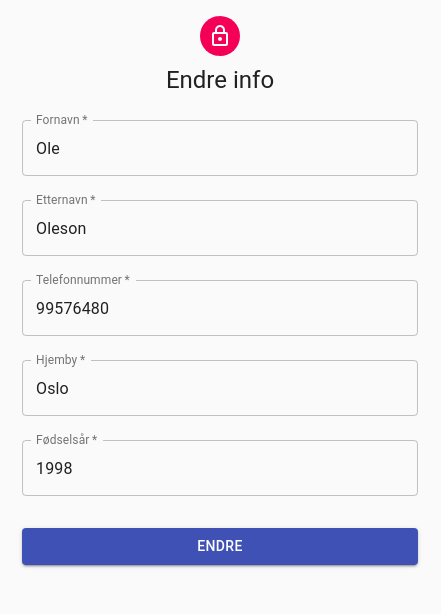
Test: EditUser component › will say to to old
Replace the text in the field with id "firstName" with "Ola": (220, 148) [22, 120, 418, 176]
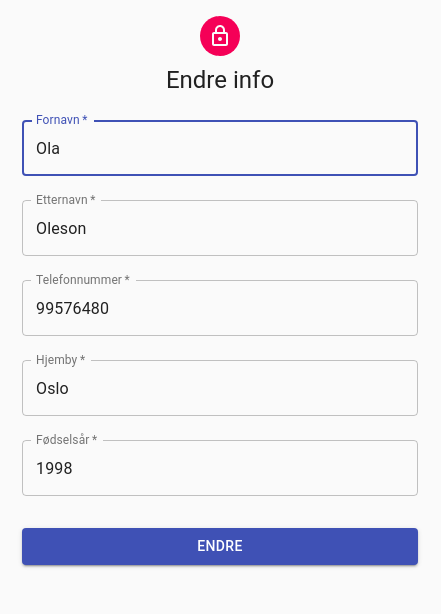
Replace the text in the field with id "lastName" with "Normann": (220, 228) [22, 200, 418, 256]
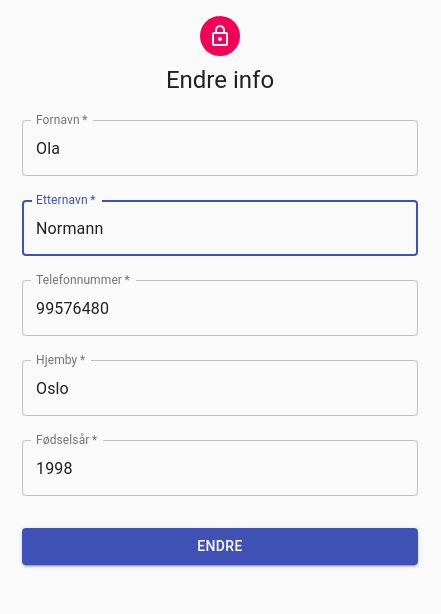
Replace the text in the field with id "tel" with "90807060": (220, 308) [22, 280, 418, 336]
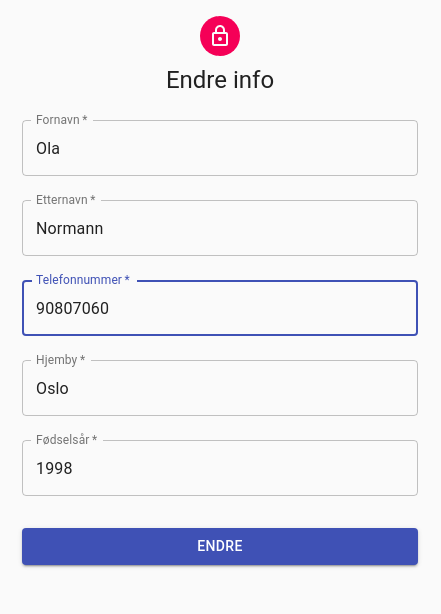
Replace the text in the field with id "city" with "Trondheim": (220, 388) [22, 360, 418, 416]
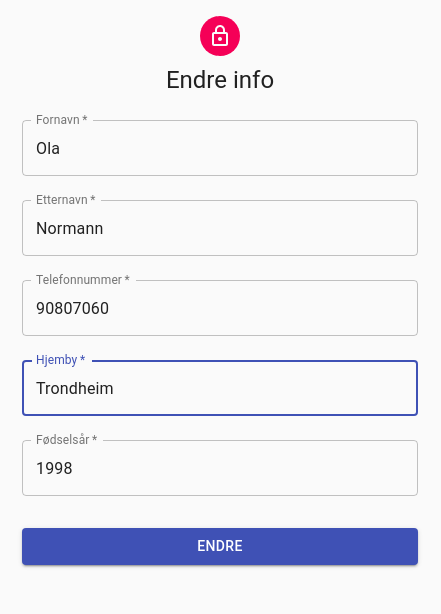
Replace the text in the number field with id "birthYear" with "1899": (220, 468) [22, 440, 418, 496]
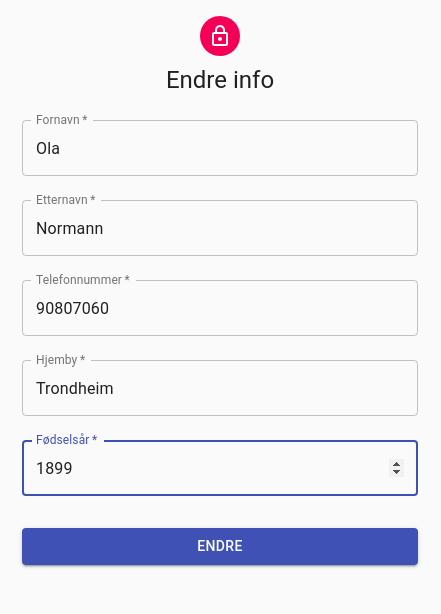
Click the button "Endre": click(220, 546) [22, 528, 418, 564]
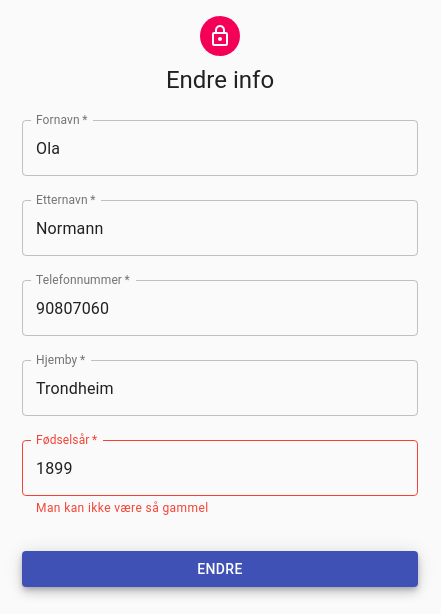
Now the text "Man kan ikke være så gammel" is shown, box [36, 501, 208, 515]
